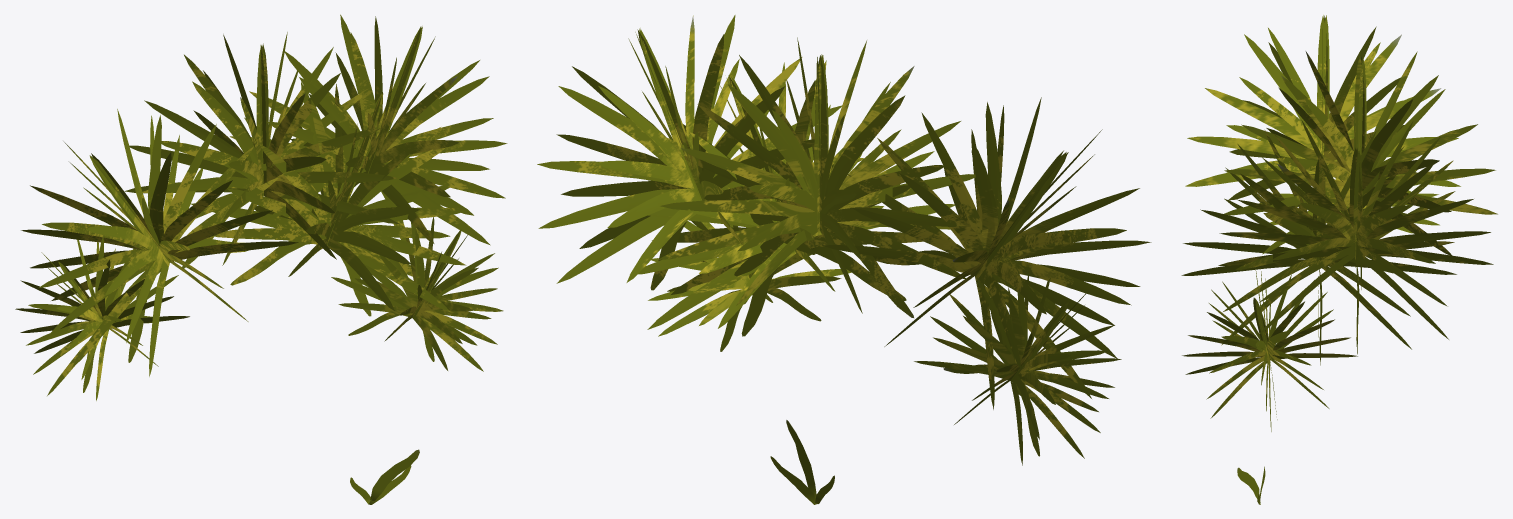
The model's file is SM_Cabbage_Tree.fbx.
3 views of the same model, side by side, from view 1: azimuth 30°, elevation 25°; view 2: azimuth 150°, elevation 25°; view 3: azimuth 270°, elevation 25° (orthographic). The views are drawn at different scales.
Parts seen in each view (by area): view 1: cabbbage_tree_leaves.245; view 2: cabbbage_tree_leaves.245; view 3: cabbbage_tree_leaves.245.
Part boxes in pixels (x1,y1,x2,y2): cabbbage_tree_leaves.245: [15, 14, 507, 504]; cabbbage_tree_leaves.245: [537, 15, 1151, 504]; cabbbage_tree_leaves.245: [1181, 15, 1497, 504].
Size of the model in its own units: 175 by 155 by 106.
